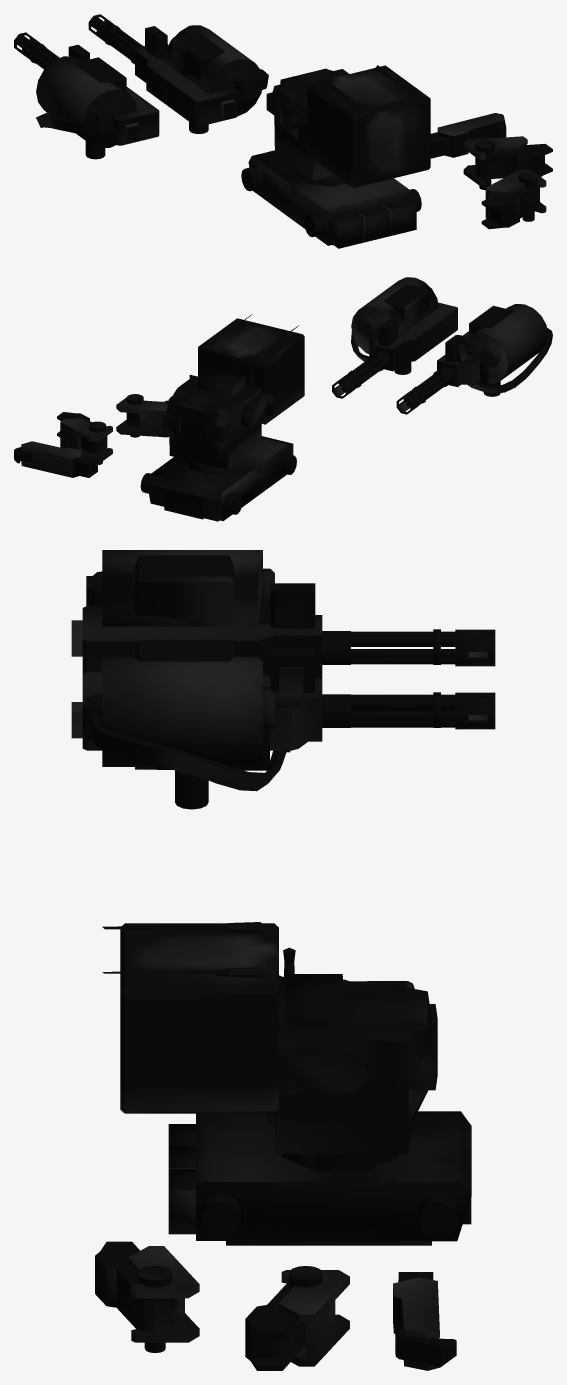
File: deployable_droid_broken.fbx
3 renders of one model, top to bottom at view 1: azimuth 30°, elevation 25°; view 2: azimuth 150°, elevation 25°; view 3: azimuth 270°, elevation 25°, orthographic. The views are drawn at different scales.
Parts seen in each view (by area): view 1: deployable_droid_broken, deployable_droid_gun_broken, deployable_droid_gun_broken_left, deployable_droid_base_broken, deployable_droid_leg_right_broken, deployable_droid_leg_left_broken, deployable_droid_leg_bottom_broken; view 2: deployable_droid_broken, deployable_droid_gun_broken_left, deployable_droid_gun_broken, deployable_droid_base_broken, deployable_droid_leg_bottom_broken, deployable_droid_leg_right_broken, deployable_droid_leg_left_broken; view 3: deployable_droid_broken, deployable_droid_gun_broken, deployable_droid_base_broken, deployable_droid_gun_broken_left, deployable_droid_leg_left_broken, deployable_droid_leg_right_broken, deployable_droid_leg_bottom_broken.
Boxes of the visible parts, bbox=[...] form: deployable_droid_broken: bbox=[266, 65, 430, 187]; deployable_droid_gun_broken: bbox=[88, 14, 268, 133]; deployable_droid_gun_broken_left: bbox=[14, 32, 159, 159]; deployable_droid_base_broken: bbox=[241, 150, 421, 248]; deployable_droid_leg_right_broken: bbox=[463, 136, 552, 189]; deployable_droid_leg_left_broken: bbox=[481, 169, 546, 229]; deployable_droid_leg_bottom_broken: bbox=[430, 113, 506, 158]; deployable_droid_broken: bbox=[162, 314, 304, 474]; deployable_droid_gun_broken_left: bbox=[396, 304, 552, 414]; deployable_droid_gun_broken: bbox=[332, 277, 457, 398]; deployable_droid_base_broken: bbox=[140, 436, 296, 521]; deployable_droid_leg_bottom_broken: bbox=[14, 441, 97, 477]; deployable_droid_leg_right_broken: bbox=[57, 412, 112, 464]; deployable_droid_leg_left_broken: bbox=[116, 394, 169, 437]; deployable_droid_broken: bbox=[102, 922, 437, 1171]; deployable_droid_gun_broken: bbox=[71, 640, 495, 809]; deployable_droid_base_broken: bbox=[168, 1111, 471, 1245]; deployable_droid_gun_broken_left: bbox=[71, 550, 495, 678]; deployable_droid_leg_left_broken: bbox=[95, 1241, 199, 1352]; deployable_droid_leg_right_broken: bbox=[245, 1266, 349, 1370]; deployable_droid_leg_bottom_broken: bbox=[393, 1272, 456, 1370].
Size of the model in its own units: 244 by 108 by 96.82.
Materials: 1 (1 with a texture image).
